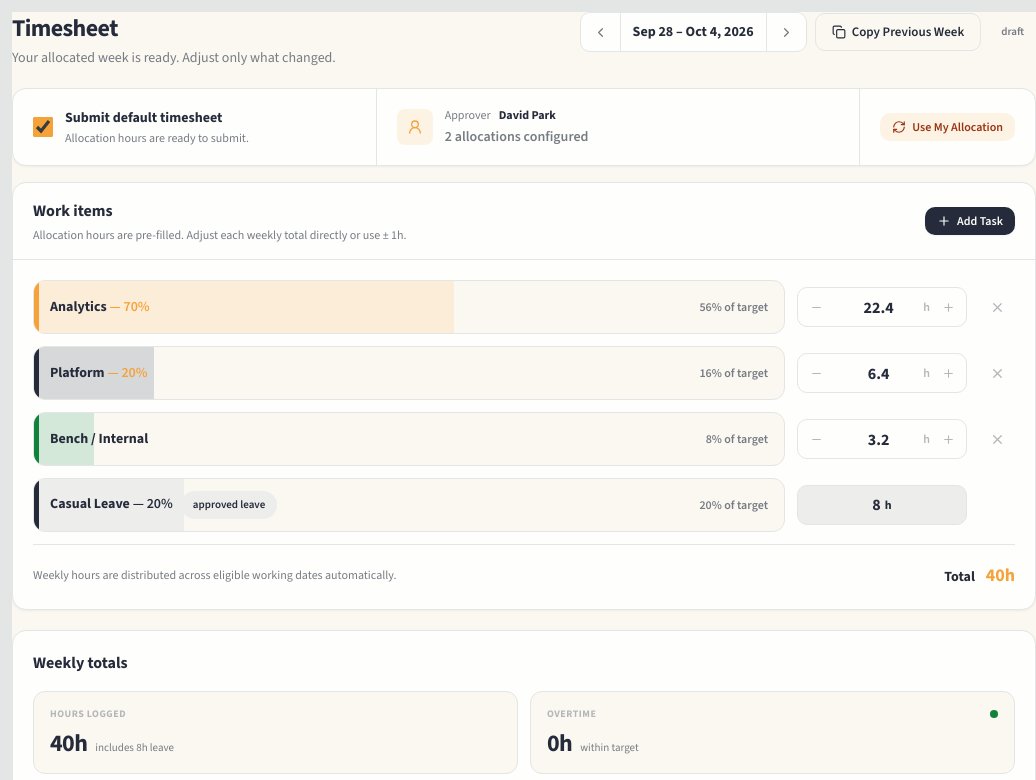
Test: hour-centric timesheet › marks manual review immediately after an hour edit
Replace the text in the number field named "Analytics weekly hours" with "30". click: (879, 307)
box: [834,288,923,326]
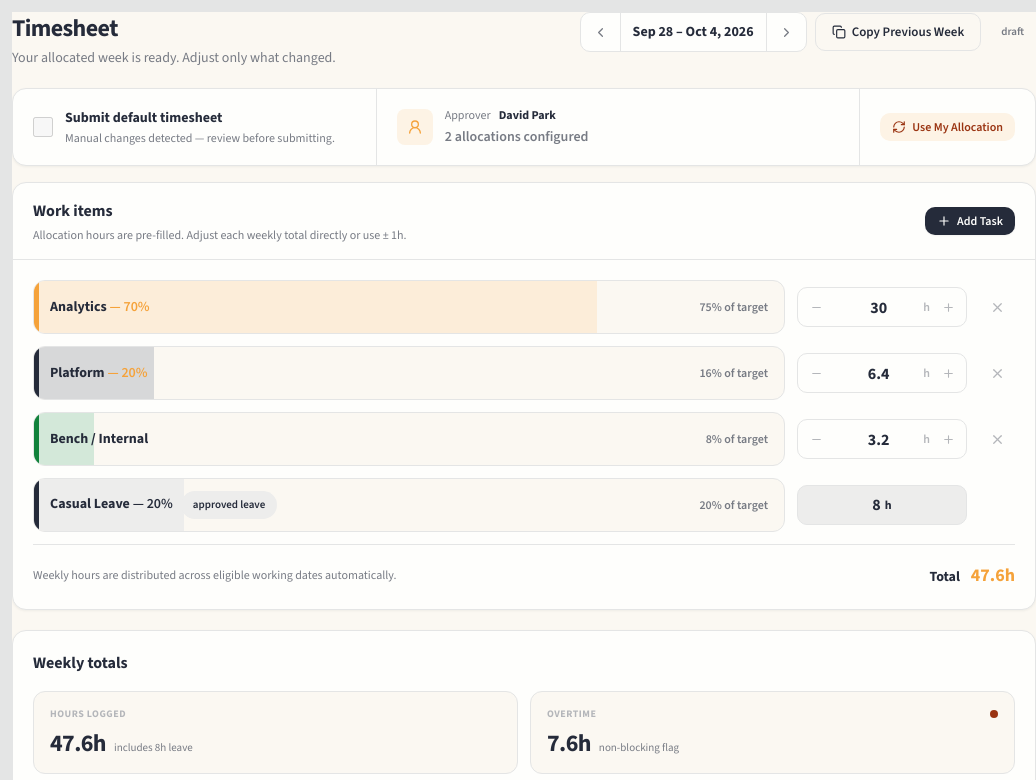
Now the checkbox labelled "Submit default timesheet" is not checked, box [33,117,53,137]
Now the text "Manual changes detected — review before submitting." is shown, box [65,130,335,146]
